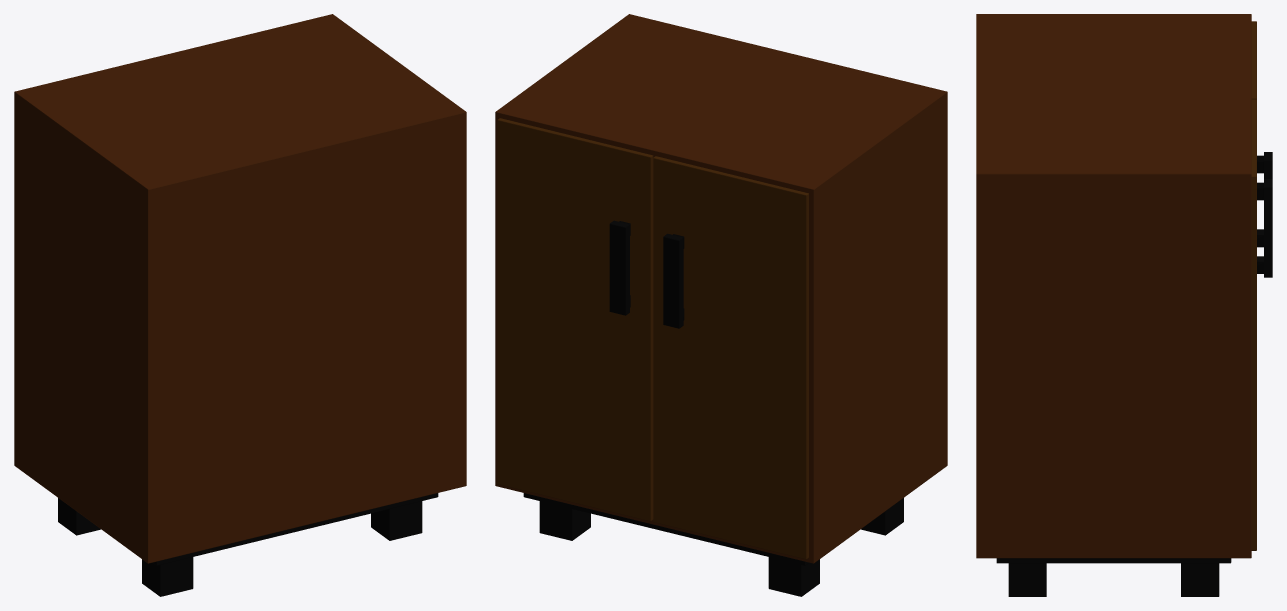
Rendered from Velador.fbx.
3 views of the same model, side by side, from view 1: azimuth 30°, elevation 25°; view 2: azimuth 150°, elevation 25°; view 3: azimuth 270°, elevation 25° (orthographic). The views are drawn at different scales.
Parts seen in each view (by area): view 1: Cabinet; view 2: Cabinet; view 3: Cabinet.
Boxes of the visible parts, bbox=[...] form: Cabinet: bbox=[14, 14, 466, 596]; Cabinet: bbox=[495, 14, 947, 596]; Cabinet: bbox=[976, 14, 1272, 596].
Bounding box in the file's own units: 65.14 × 83.2 × 51.07.
1 material, 1 textured.
